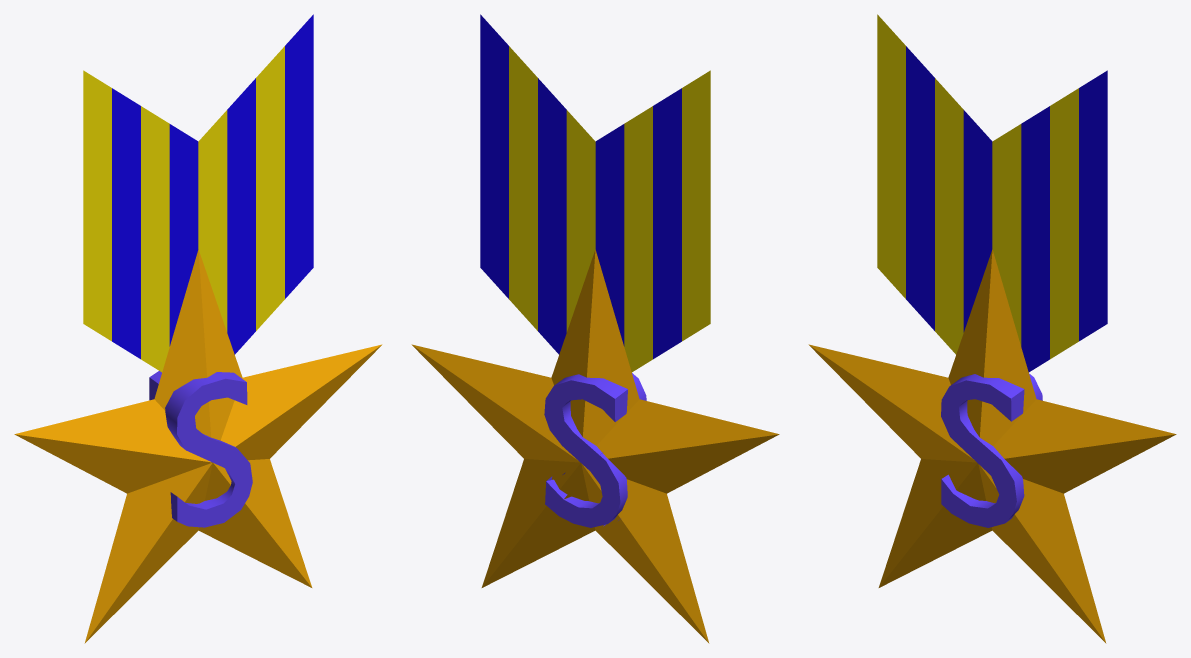
The model's file is star_order.fbx.
3 views of the same model, side by side, from view 1: azimuth 30°, elevation 25°; view 2: azimuth 150°, elevation 25°; view 3: azimuth 330°, elevation 25° (orthographic).
Parts seen in each view (by area): view 1: star_order; view 2: star_order; view 3: star_order.
Boxes of the visible parts, x1,y1,x2,y2 form: star_order: [14, 14, 382, 643]; star_order: [411, 14, 779, 643]; star_order: [808, 14, 1176, 643].
Size of the model in its own units: 190 by 283 by 26.56.
